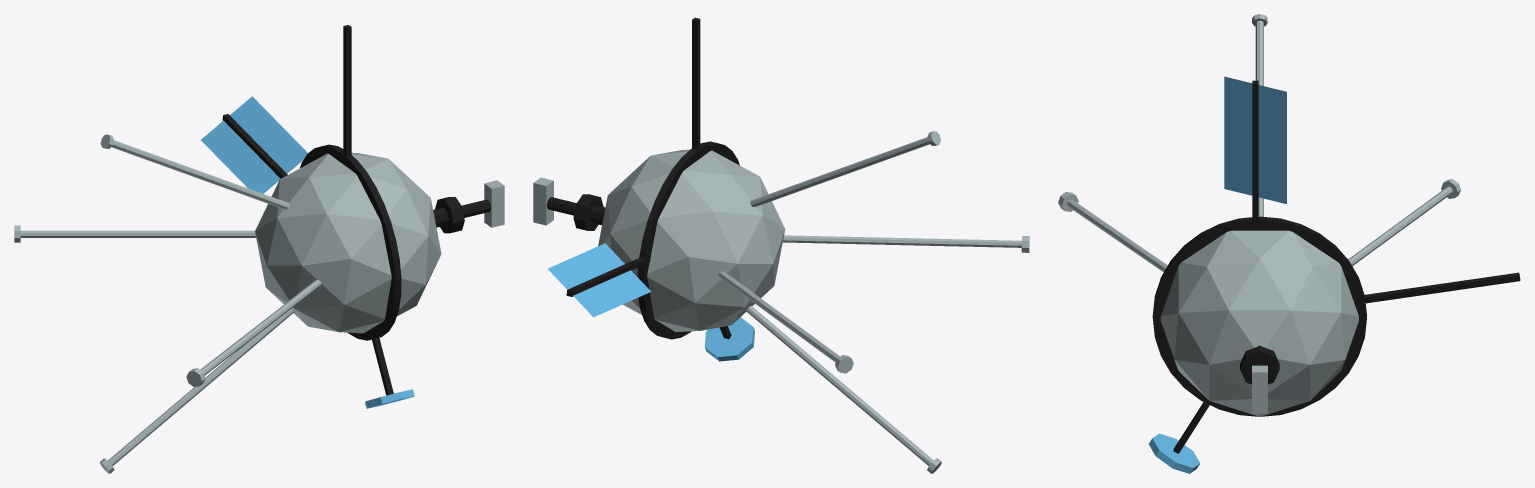
Rendered from raumsonde.glb.
The picture shows the model from 3 angles, left to right: view 1: azimuth 30°, elevation 25°; view 2: azimuth 150°, elevation 25°; view 3: azimuth 270°, elevation 25°; orthographic projection. The views are drawn at different scales.
Visible parts, largest first — view 1: Sondenkorpus, fuss, Plane.001, Cylinder, Cube.001, Cube, Cube.003; view 2: Sondenkorpus, fuss, Cylinder, Plane.001, Cylinder.001, Cube.001, Cube, Cube.003; view 3: Sondenkorpus, Cylinder, Plane, fuss, Cube.003, Cylinder.001, Cube.001, Cube.
Boxes of the visible parts, bbox=[...] form: Sondenkorpus: bbox=[255, 152, 441, 333]; fuss: bbox=[14, 134, 321, 473]; Plane.001: bbox=[201, 96, 307, 193]; Cylinder: bbox=[300, 144, 491, 395]; Cube.001: bbox=[343, 25, 351, 156]; Cube: bbox=[484, 180, 504, 227]; Cube.003: bbox=[222, 114, 287, 178]; Sondenkorpus: bbox=[598, 149, 785, 331]; fuss: bbox=[718, 131, 1029, 473]; Cylinder: bbox=[547, 141, 739, 339]; Plane.001: bbox=[547, 243, 651, 317]; Cylinder.001: bbox=[704, 317, 754, 361]; Cube.001: bbox=[692, 17, 700, 149]; Cube: bbox=[533, 177, 553, 225]; Cube.003: bbox=[566, 256, 650, 296]; Sondenkorpus: bbox=[1160, 230, 1358, 416]; Cylinder: bbox=[1152, 216, 1366, 453]; Plane: bbox=[1224, 76, 1286, 203]; fuss: bbox=[1058, 14, 1460, 272]; Cube.003: bbox=[1364, 272, 1520, 303]; Cylinder.001: bbox=[1148, 433, 1200, 473]; Cube.001: bbox=[1252, 80, 1258, 219]; Cube: bbox=[1252, 365, 1267, 413].
Size of the model in its own units: 4.92 by 4.58 by 4.6.
